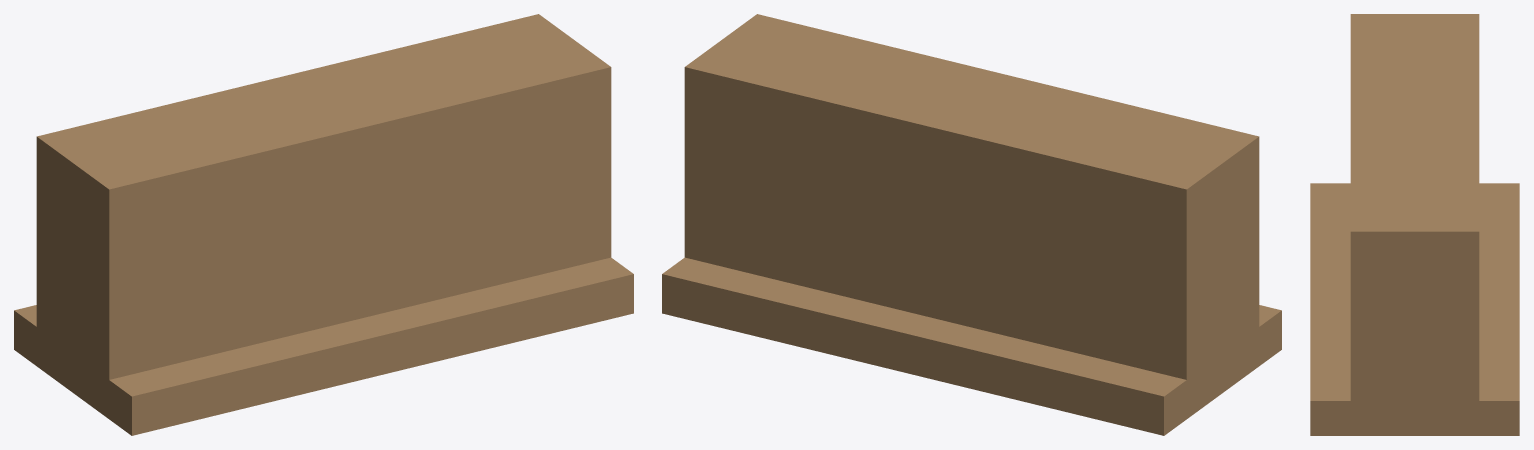
The model's file is prop-panel-gauge-fence-pg2.fbx.
3 views of the same model, side by side, from view 1: azimuth 30°, elevation 25°; view 2: azimuth 150°, elevation 25°; view 3: azimuth 270°, elevation 25° (orthographic). The views are drawn at different scales.
Visible parts, largest first — view 1: prop-panel-gauge-fence-pg2; view 2: prop-panel-gauge-fence-pg2; view 3: prop-panel-gauge-fence-pg2.
Part boxes in pixels (x1,y1,x2,y2): prop-panel-gauge-fence-pg2: (14, 14, 633, 435); prop-panel-gauge-fence-pg2: (662, 14, 1281, 435); prop-panel-gauge-fence-pg2: (1310, 14, 1519, 435).
Size of the model in its own units: 16 by 7 by 6.5.
